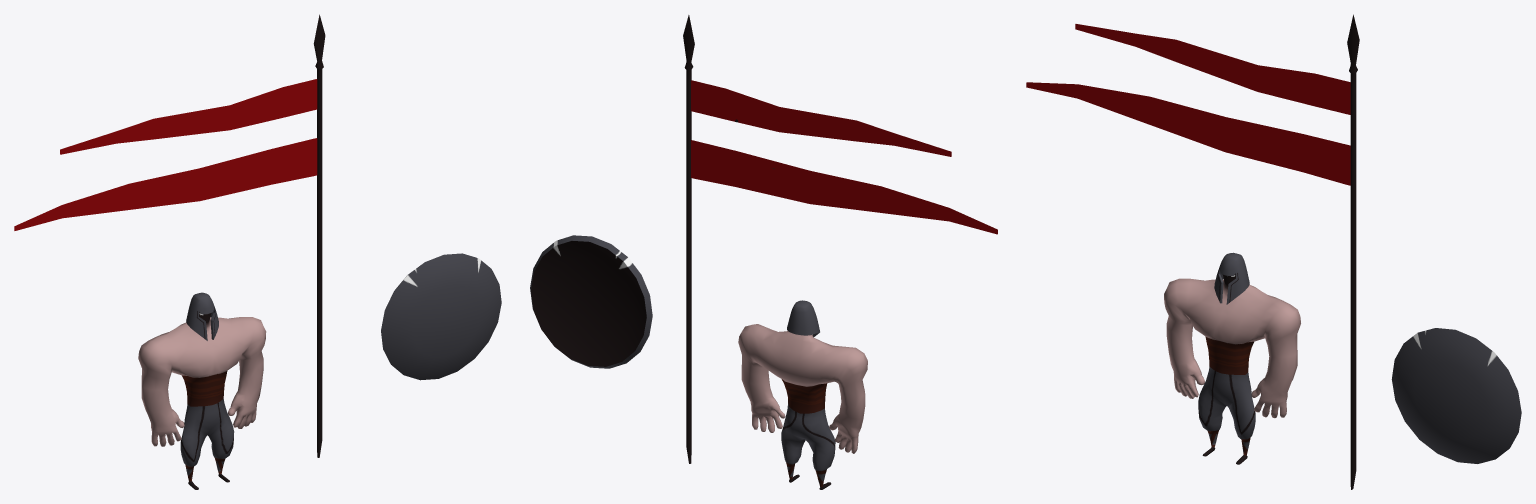
File: Znamenosec_full_geometry_optimized_no_rig_texture.fbx
3 renders of one model, left to right at view 1: azimuth 30°, elevation 25°; view 2: azimuth 150°, elevation 25°; view 3: azimuth 330°, elevation 25°, orthographic. The views are drawn at different scales.
Parts seen in each view (by area): view 1: zname, tqlo, shtit; view 2: zname, tqlo, shtit; view 3: zname, tqlo, shtit.
Boxes of the visible parts, bbox=[...] form: zname: bbox=[14, 14, 325, 457]; tqlo: bbox=[138, 292, 266, 489]; shtit: bbox=[381, 253, 501, 380]; zname: bbox=[683, 15, 997, 463]; tqlo: bbox=[738, 300, 867, 489]; shtit: bbox=[530, 235, 652, 368]; zname: bbox=[1026, 14, 1359, 489]; tqlo: bbox=[1164, 252, 1300, 464]; shtit: bbox=[1391, 328, 1521, 463].
Size of the model in its own units: 466 by 416 by 60.38.
2 materials, 2 textured.
